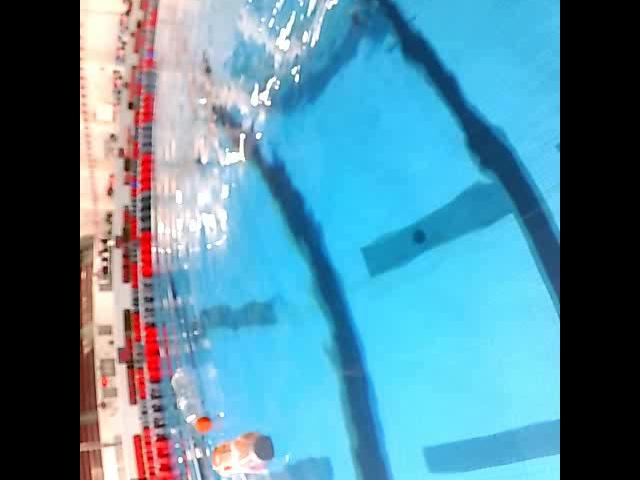Bottle: (208, 425, 278, 478), (168, 362, 216, 437)
